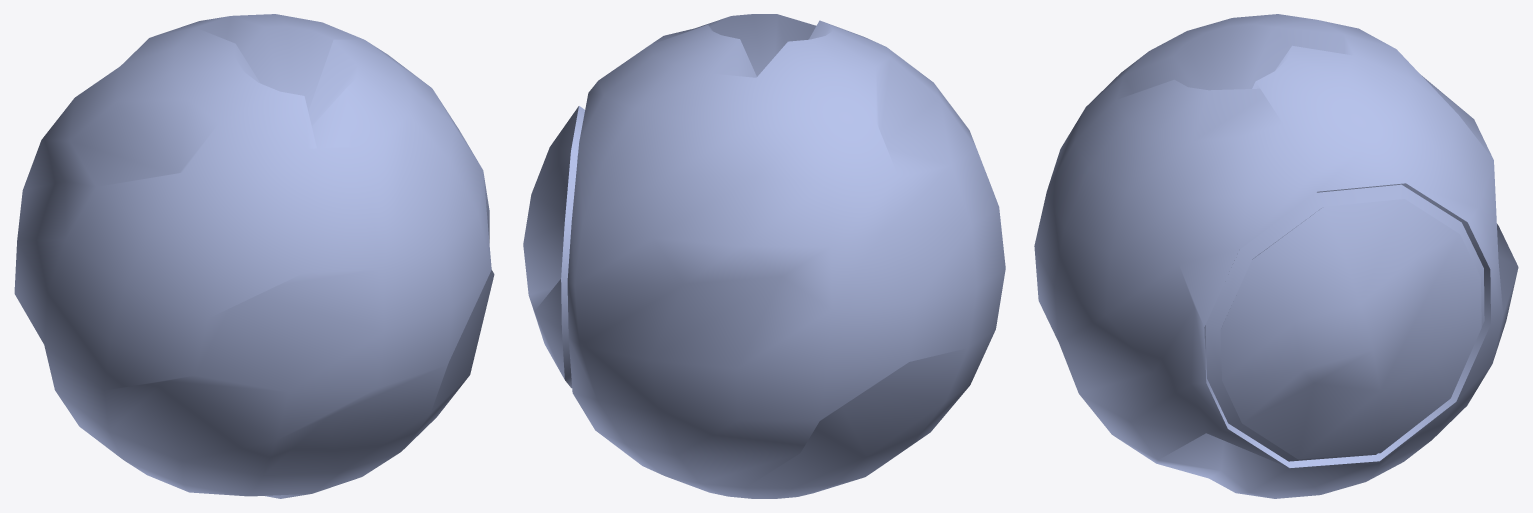
The model's file is EsferaROta4.fbx.
3 renders of one model, left to right at view 1: azimuth 30°, elevation 25°; view 2: azimuth 150°, elevation 25°; view 3: azimuth 270°, elevation 25°, orthographic.
Visible parts, largest first — view 1: Esfera_Vehiculo; view 2: Esfera_Vehiculo; view 3: Esfera_Vehiculo.
Boxes of the visible parts, x1,y1,x2,y2 form: Esfera_Vehiculo: (14, 14, 494, 498); Esfera_Vehiculo: (523, 14, 1005, 498); Esfera_Vehiculo: (1034, 14, 1518, 498).
Size of the model in its own units: 2.98 by 3.01 by 3.01.
